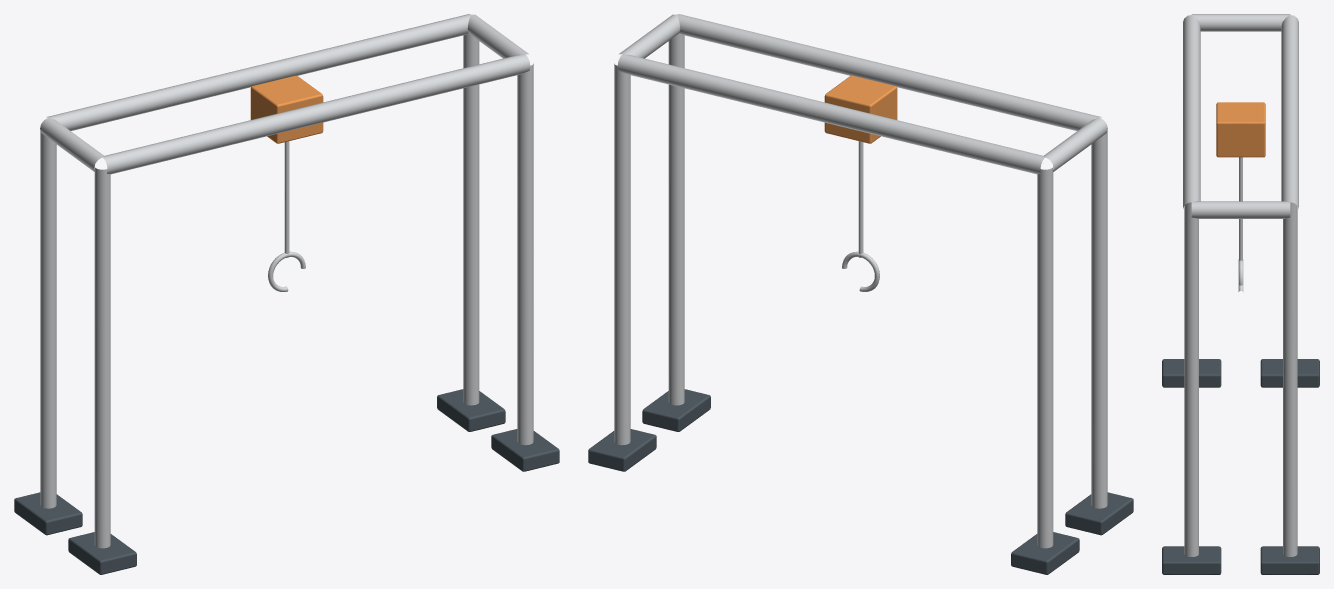
3 views of the same model, side by side, from view 1: azimuth 30°, elevation 25°; view 2: azimuth 150°, elevation 25°; view 3: azimuth 270°, elevation 25° (orthographic). The views are drawn at different scales.
Visible parts, largest first — view 1: repair-gantry; view 2: repair-gantry; view 3: repair-gantry.
Part boxes in pixels (box(x1,y1,x2,y2)): repair-gantry: box(14, 14, 559, 574); repair-gantry: box(588, 14, 1133, 574); repair-gantry: box(1162, 14, 1319, 574).
Size of the model in its own units: 9.8 by 8.18 by 3.2.
